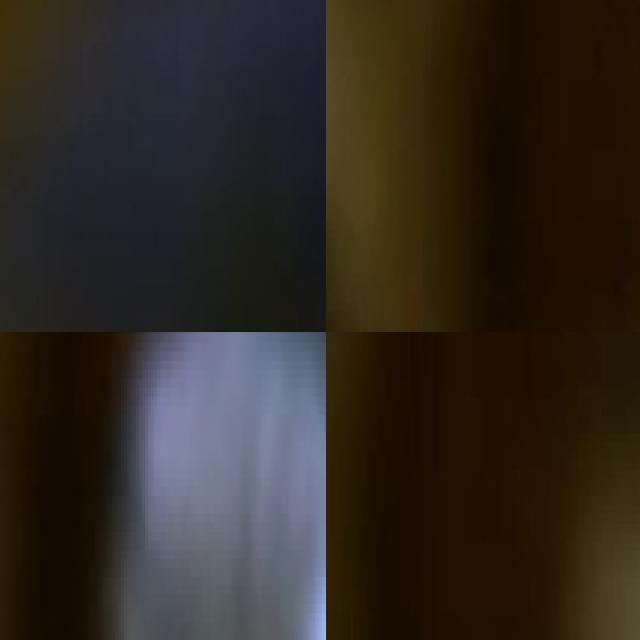fish: (0, 0, 326, 332)
